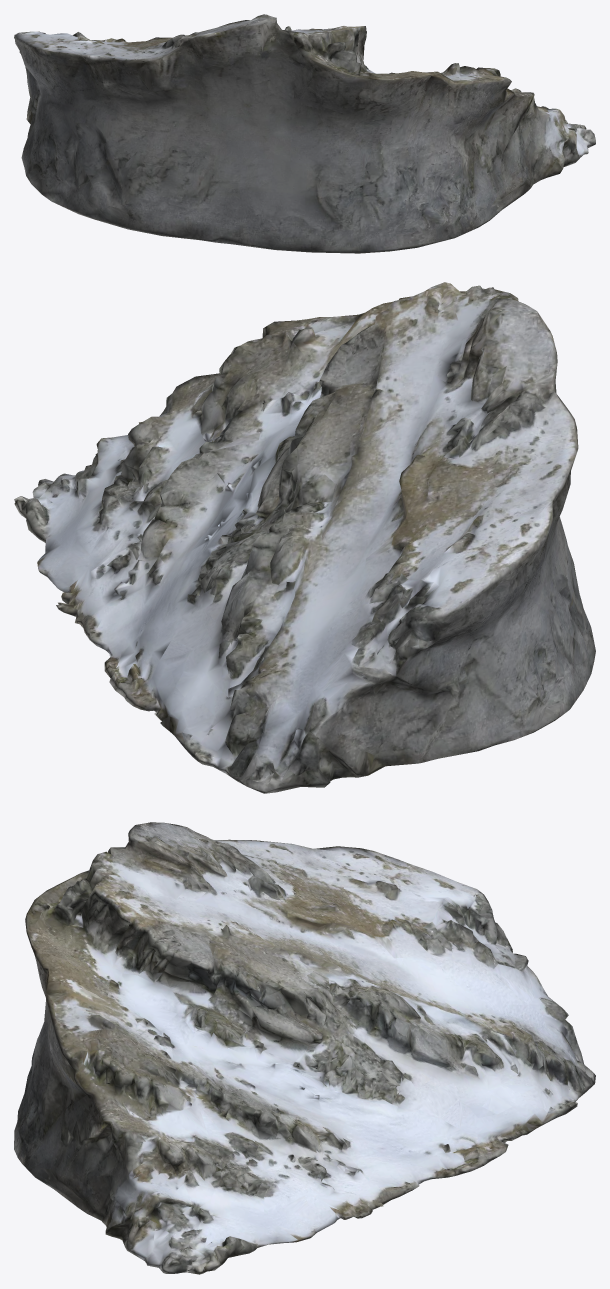
Rendered from snow-cliff.glb.
3 renders of one model, top to bottom at view 1: azimuth 30°, elevation 25°; view 2: azimuth 150°, elevation 25°; view 3: azimuth 270°, elevation 25°, orthographic. The views are drawn at different scales.
Parts seen in each view (by area): view 1: Landscape asset / snow-cliff; view 2: Landscape asset / snow-cliff; view 3: Landscape asset / snow-cliff.
Boxes of the visible parts, x1,y1,x2,y2 form: Landscape asset / snow-cliff: (14, 14, 595, 253); Landscape asset / snow-cliff: (14, 282, 595, 793); Landscape asset / snow-cliff: (14, 822, 595, 1274).
Bounding box in the file's own units: 1 × 0.4448 × 0.9213.
Materials: 1 (1 with a texture image).
